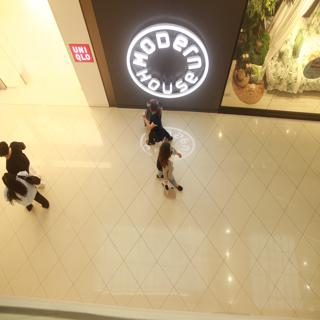person: (1, 174, 58, 222), (1, 135, 52, 176), (154, 142, 188, 198), (141, 93, 166, 135)
